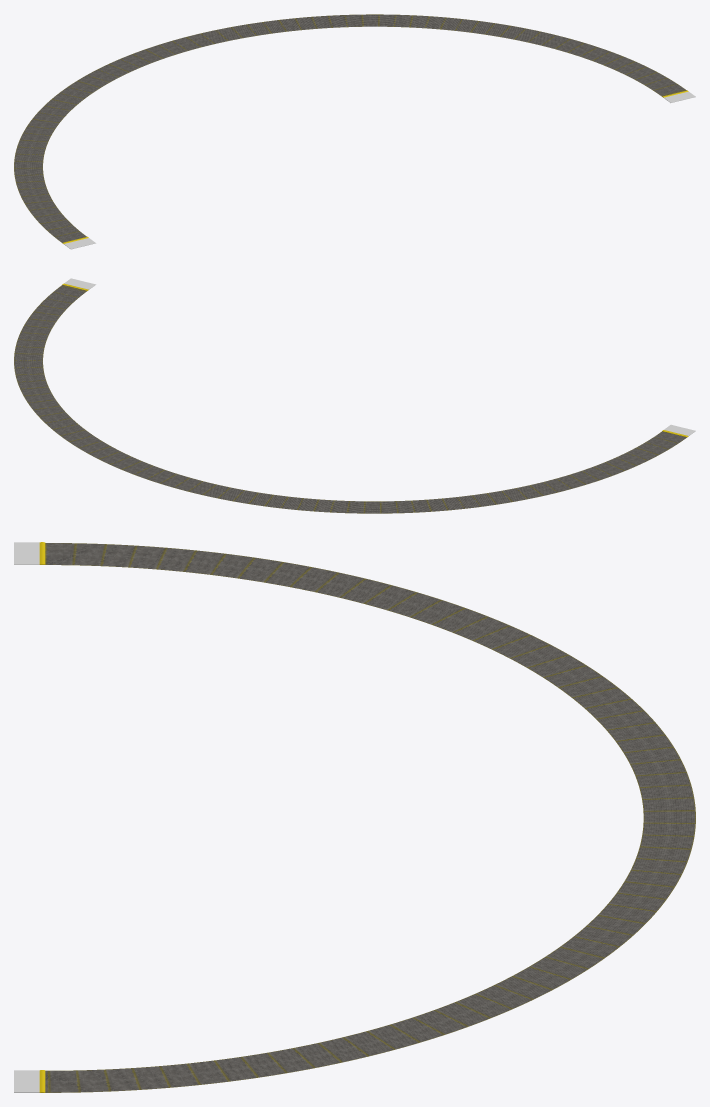
File: RoundWalkway_smaller.fbx
3 views of the same model, one above another, from view 1: azimuth 30°, elevation 25°; view 2: azimuth 150°, elevation 25°; view 3: azimuth 270°, elevation 25° (orthographic). The views are drawn at different scales.
Visible parts, largest first — view 1: Cylinder, Threshold Surface; view 2: Cylinder, Threshold Surface; view 3: Cylinder, Threshold Surface.
Boxes of the visible parts, x1=… form: Cylinder: x1=14, y1=14, x2=686, y2=242; Threshold Surface: x1=64, y1=91, x2=695, y2=249; Cylinder: x1=14, y1=285, x2=686, y2=513; Threshold Surface: x1=64, y1=278, x2=695, y2=435; Cylinder: x1=45, y1=543, x2=695, y2=1092; Threshold Surface: x1=14, y1=542, x2=39, y2=1092.
Bounding box in the file's own units: 3478 × 2.52 × 1823.
